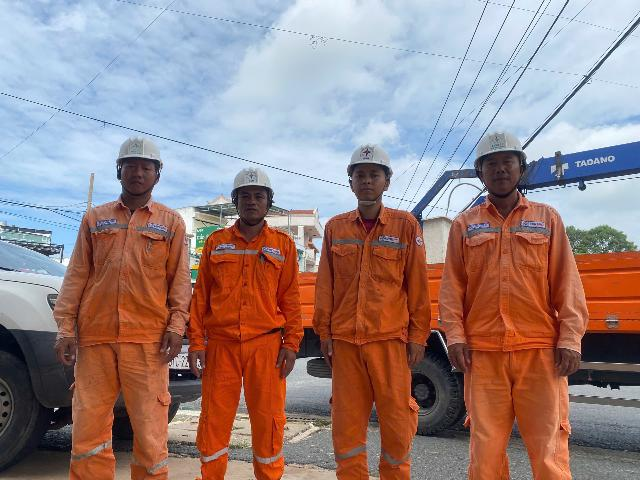helmet: (113, 122, 178, 176), (347, 126, 401, 187), (462, 129, 527, 178), (230, 155, 284, 212)
